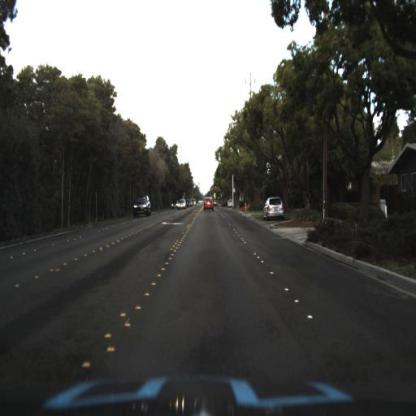car: (127, 190, 154, 217), (264, 192, 287, 223), (202, 191, 218, 214), (177, 196, 191, 212)
